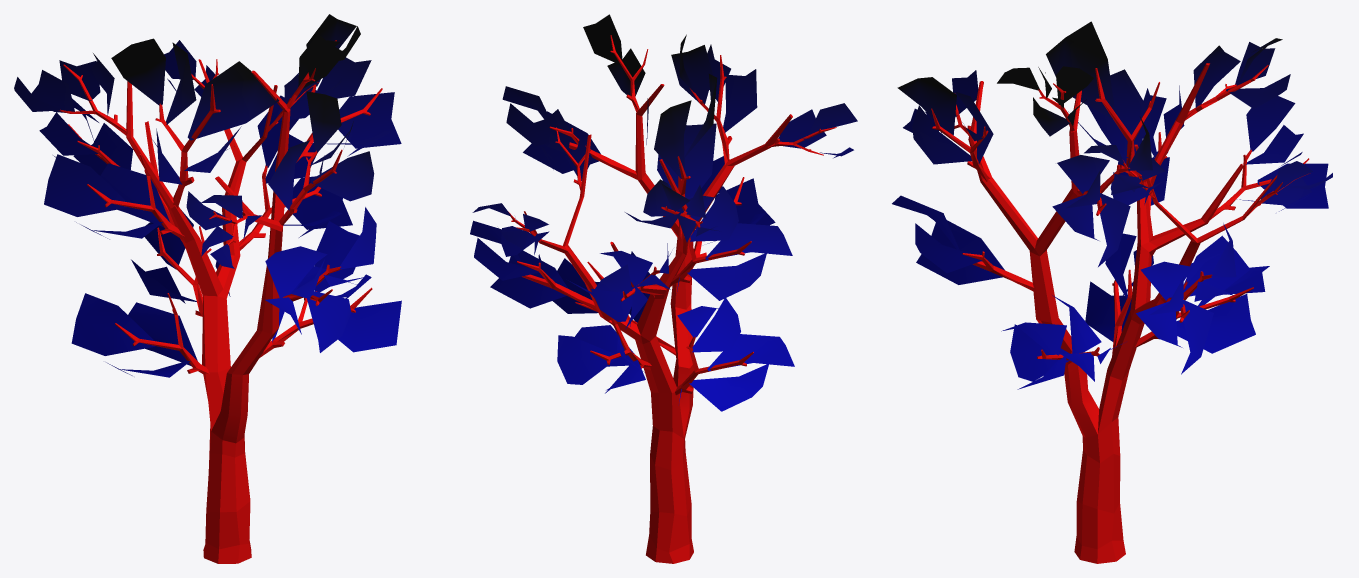
Rendered from SM_Tree_Generic_Dead_01.gltf.
3 renders of one model, left to right at view 1: azimuth 30°, elevation 25°; view 2: azimuth 150°, elevation 25°; view 3: azimuth 270°, elevation 25°, orthographic. The views are drawn at different scales.
Parts seen in each view (by area): view 1: SM_Tree_Generic_Dead_01; view 2: SM_Tree_Generic_Dead_01; view 3: SM_Tree_Generic_Dead_01.
Part boxes in pixels (x1,y1,x2,y2): SM_Tree_Generic_Dead_01: (14, 14, 401, 563); SM_Tree_Generic_Dead_01: (470, 14, 857, 563); SM_Tree_Generic_Dead_01: (892, 21, 1332, 563).
Size of the model in its own units: 3.56 by 5.33 by 4.11.
